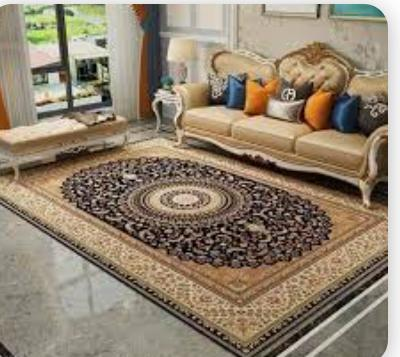carpet: (0, 101, 400, 357)
